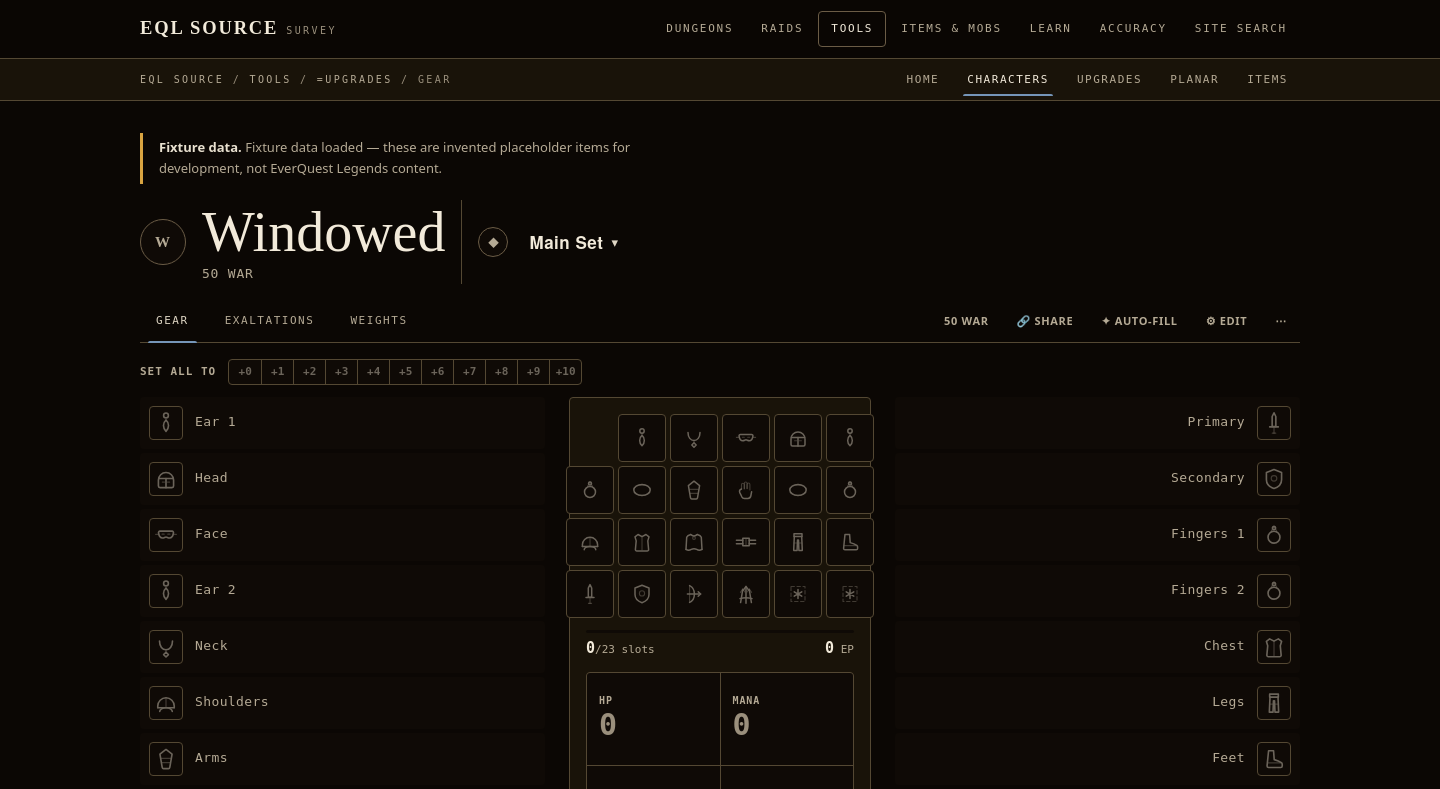
Test: the picker result list › reaches the last candidate with End, and keeps it mounted and selected
This screenshot has width=1440, height=789.
Click the button named "Fingers 1, empty" at (590, 490), box [566,466,614,514]
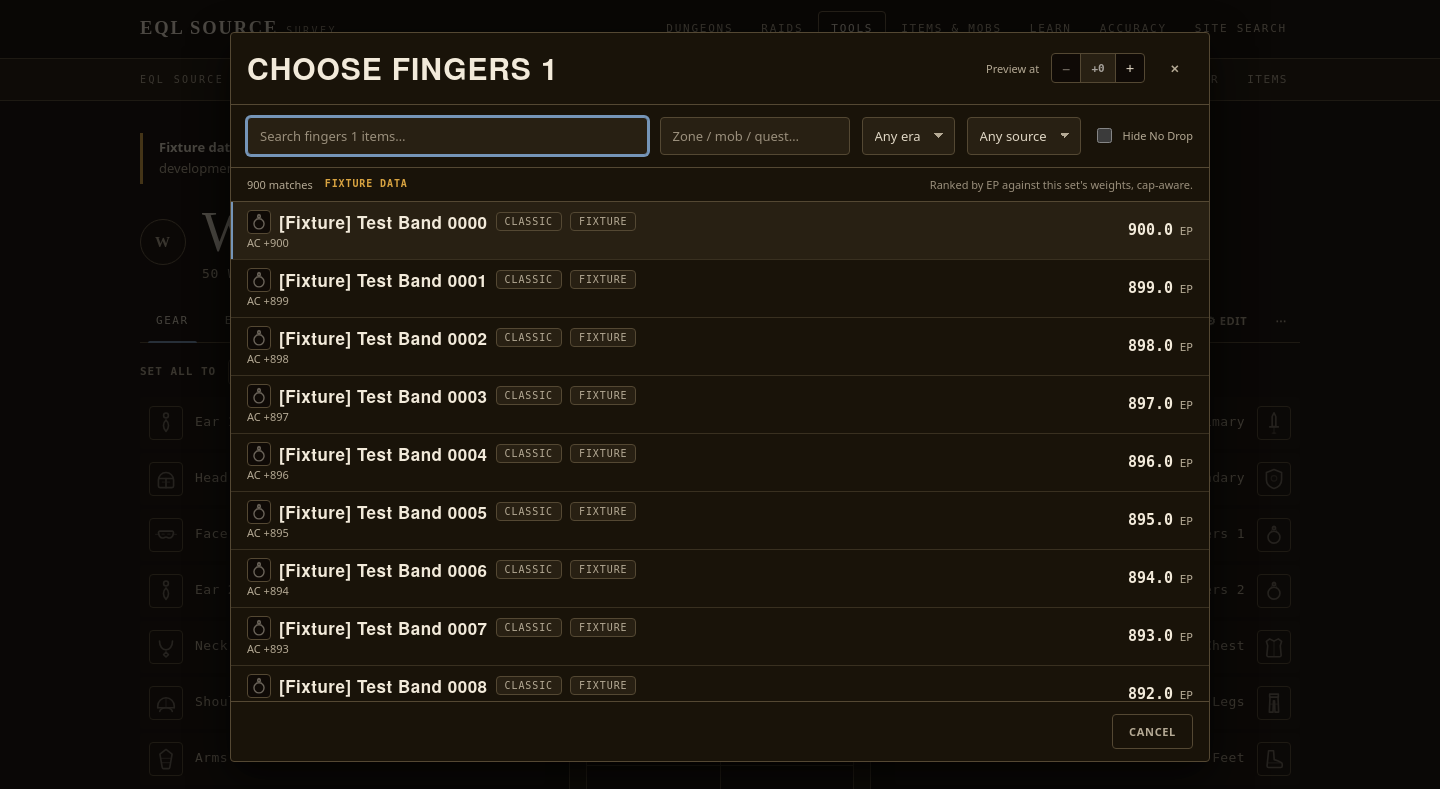
Check: the dropdown named "Search items by name" is shown
Press End in the dropdown named "Search items by name", box [247,116,648,155]
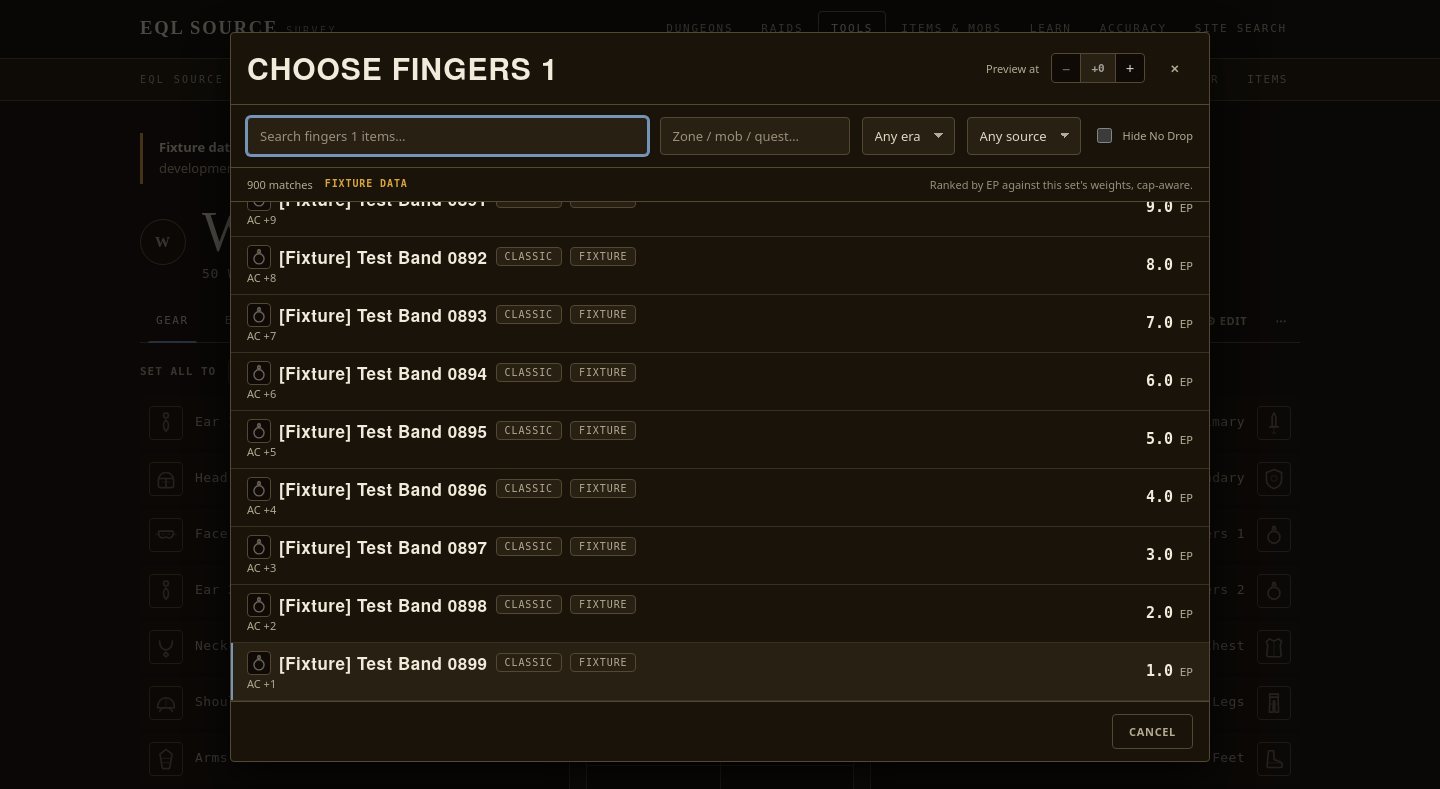
Check: the option "[Fixture] Test Band 0899 Classic Fixture AC +1 1.0 EP" is shown, box [231,643,1209,701]
